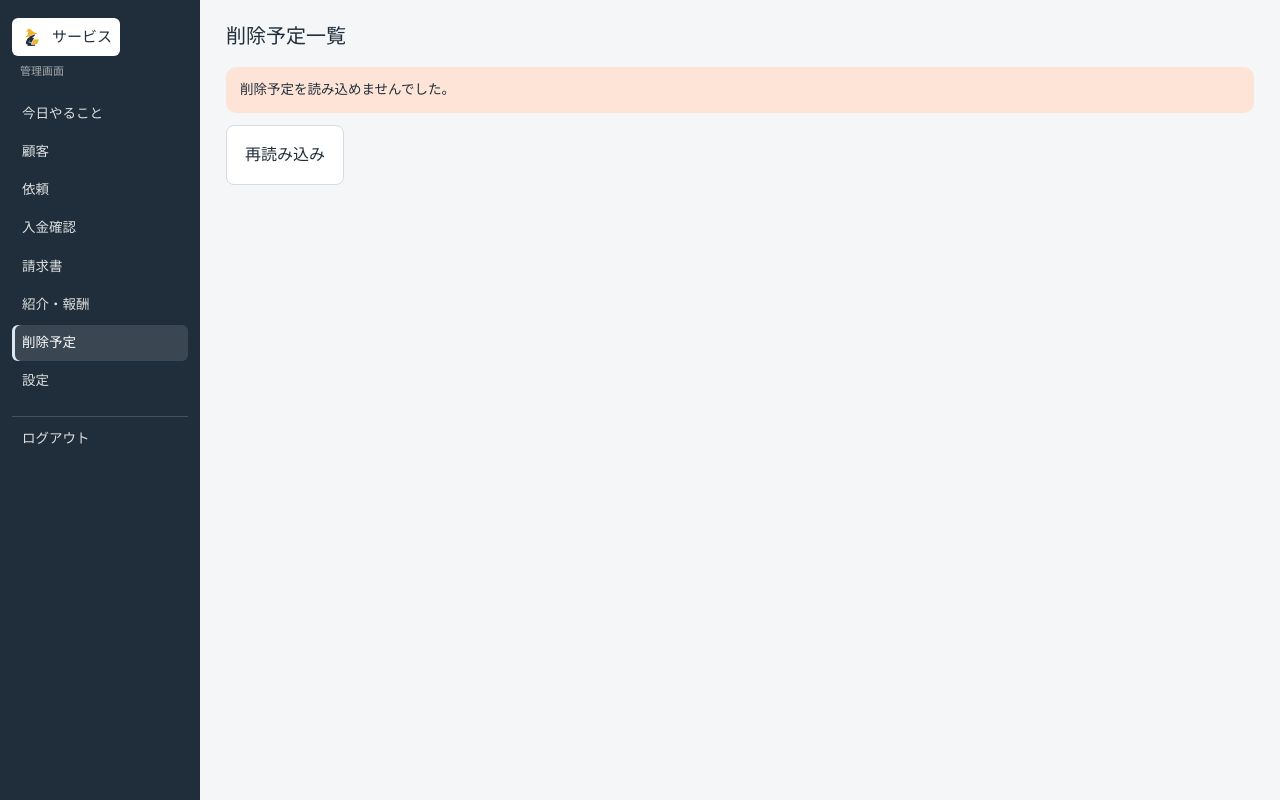
shows loading and retries a failed request
Expected: the text "削除予定を読み込めませんでした。" is shown, left=226, top=67, right=1254, bottom=113
Click the button "再読み込み" at {"x": 285, "y": 155}, box left=226, top=125, right=344, bottom=185
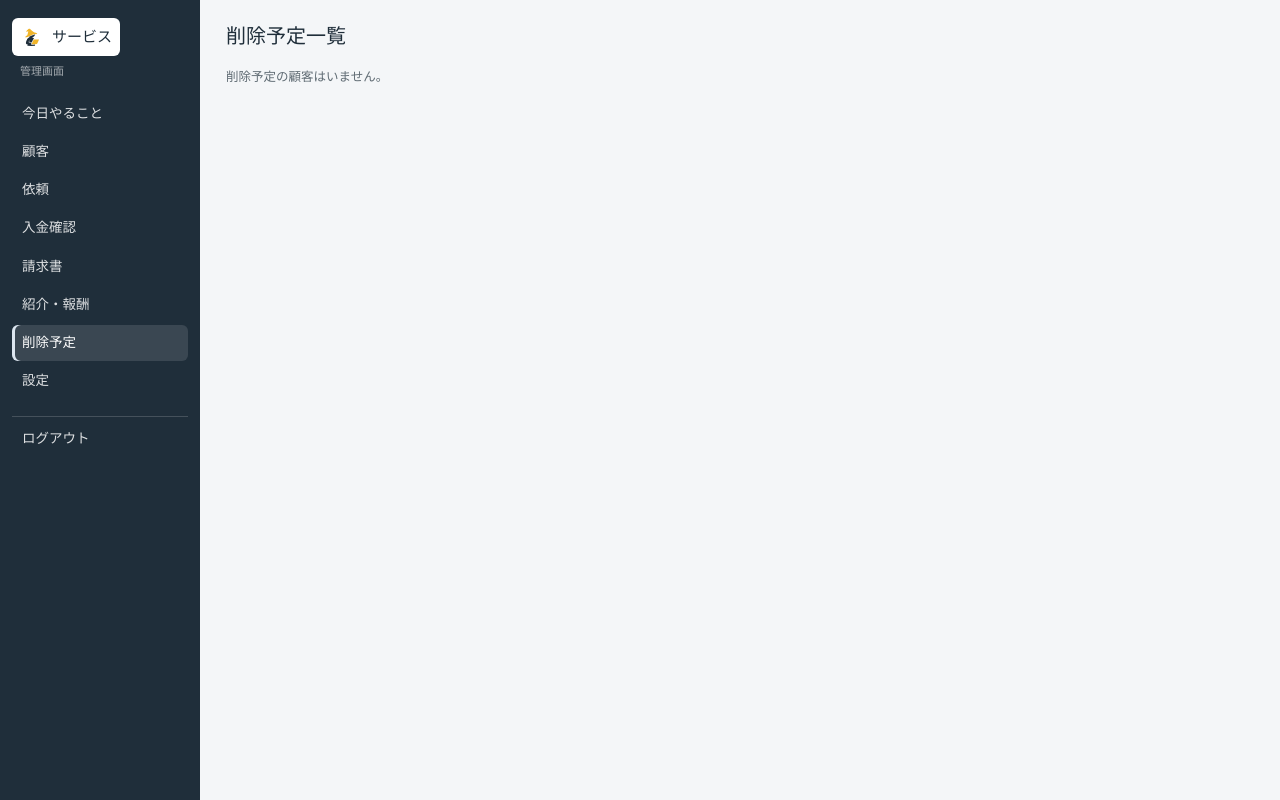
Expected: the text "削除予定の顧客はいません。" is shown, left=226, top=70, right=388, bottom=84
